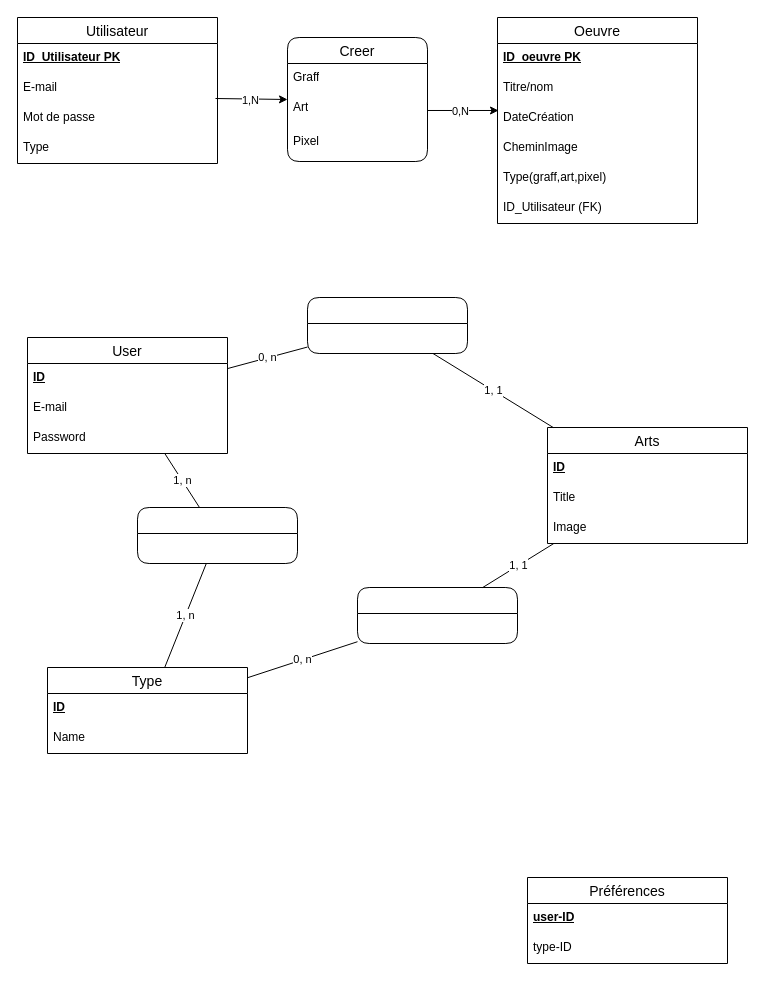
This 765x984 diagram has some shape labels left out. Here are the shapes that lost their labels. From the top down, the centre of each, then its label:
At pixel 387 325: "Create".
At pixel 217 535: "Choose".
At pixel 437 615: "Has".
